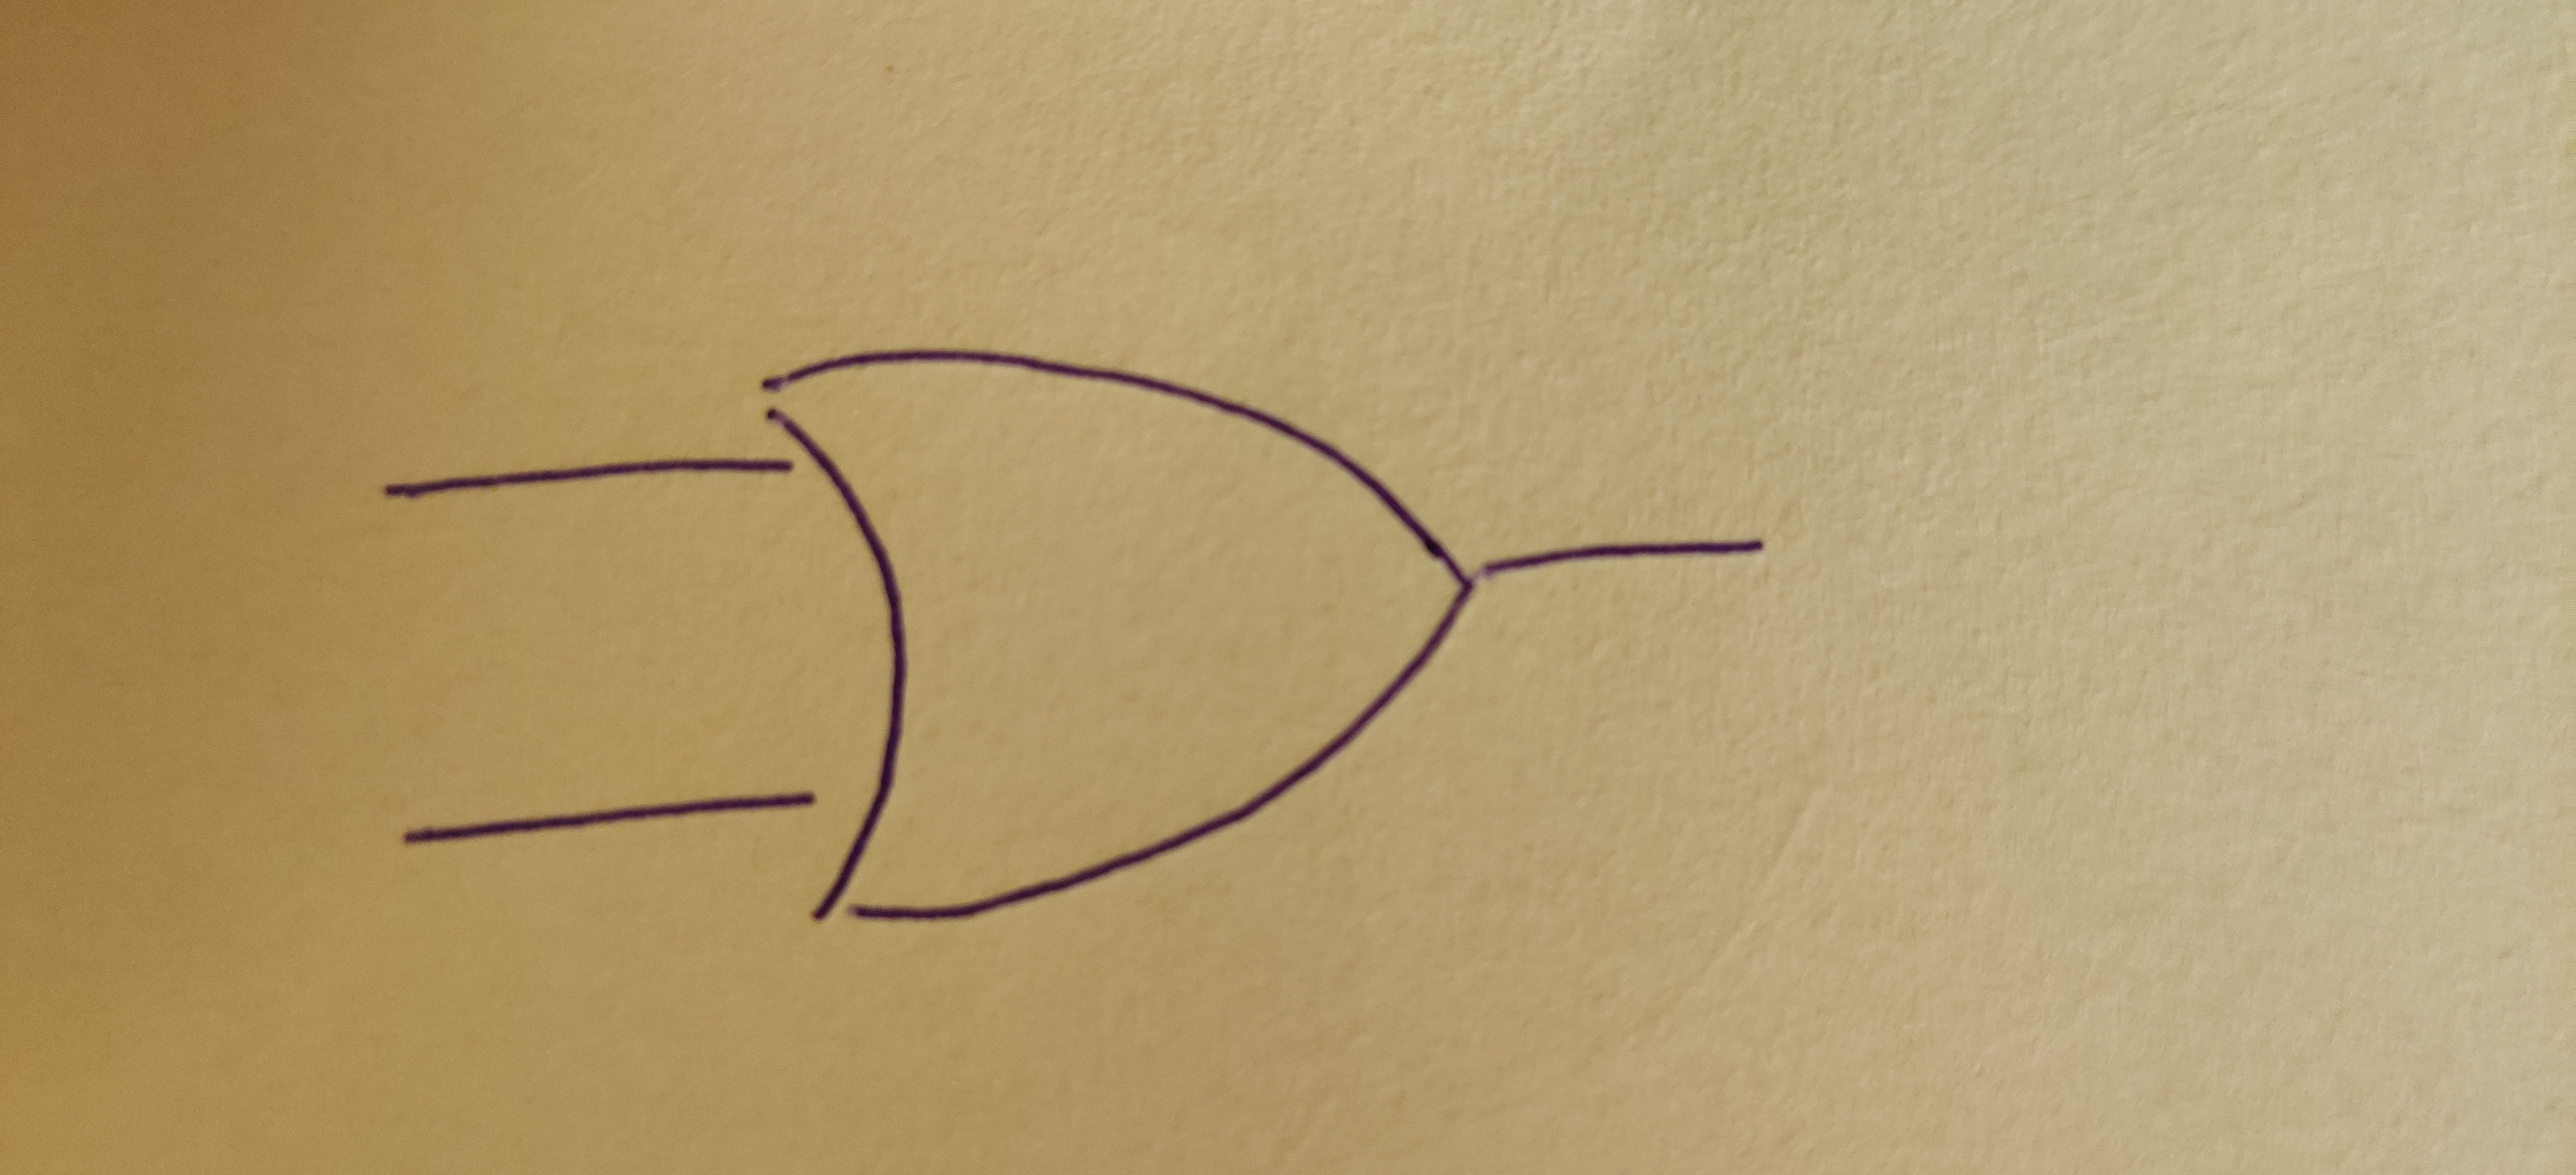or: (757, 347, 1482, 924)
